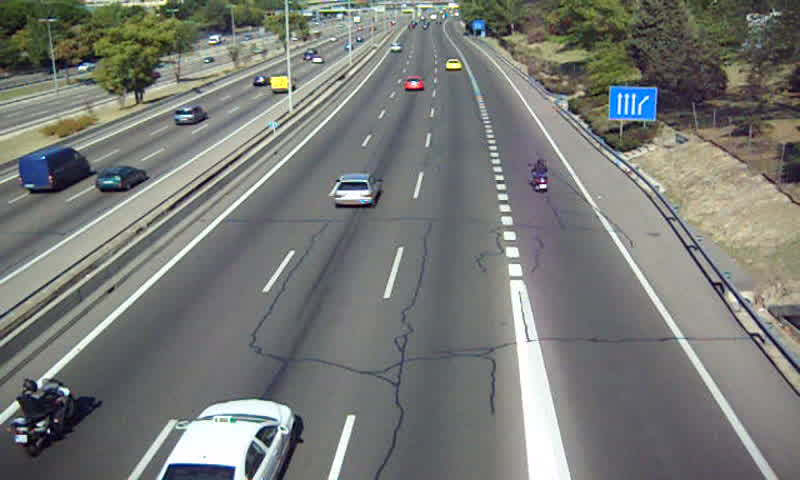car: (158, 399, 294, 480), (332, 174, 381, 207), (404, 75, 422, 94), (446, 59, 463, 70)
motorcycle: (11, 378, 77, 456), (530, 157, 552, 193)
